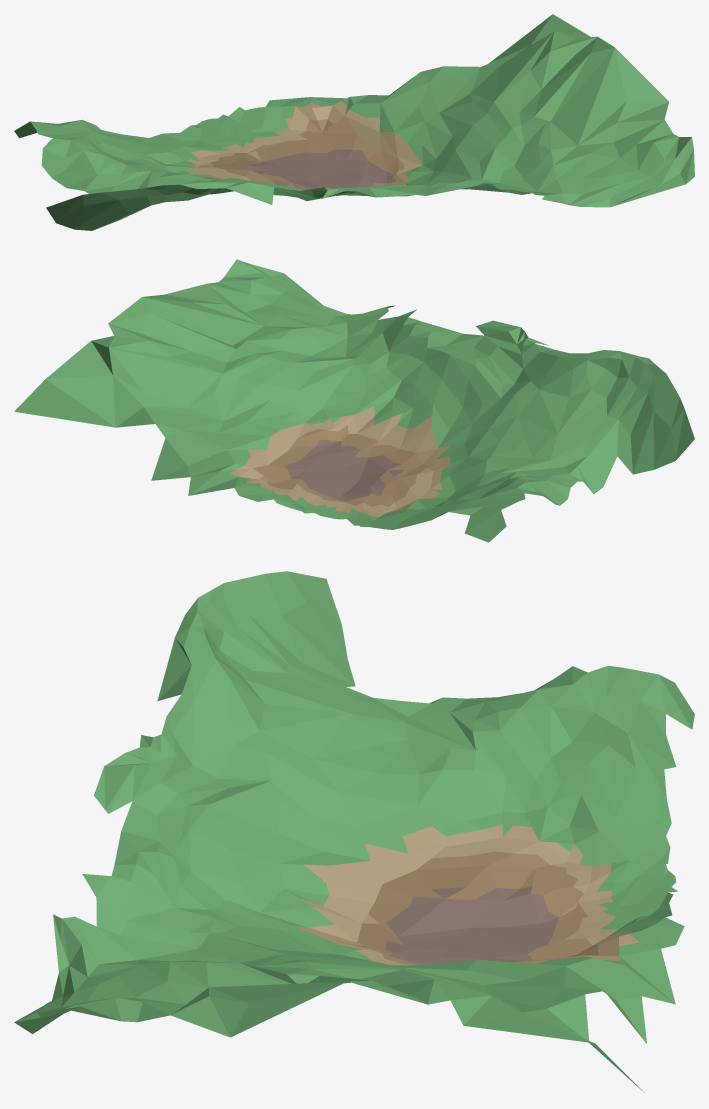
File: dig_site.fbx
The picture shows the model from 3 angles, top to bottom: view 1: azimuth 30°, elevation 25°; view 2: azimuth 150°, elevation 25°; view 3: azimuth 270°, elevation 25°; orthographic projection. The views are drawn at different scales.
Visible parts, largest first — view 1: dig_site; view 2: dig_site; view 3: dig_site.
Boxes of the visible parts, x1,y1,x2,y2 form: dig_site: [14, 14, 694, 230]; dig_site: [14, 259, 694, 542]; dig_site: [14, 571, 694, 1092].
Size of the model in its own units: 1.22 by 0.218 by 0.7766.
